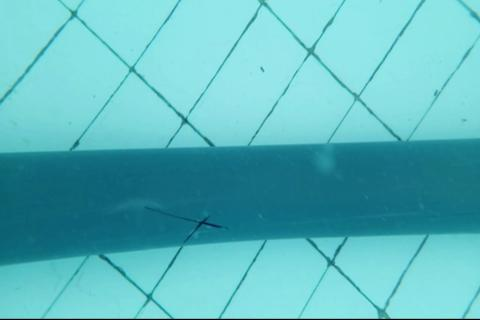keretakan: (142, 203, 228, 243)
